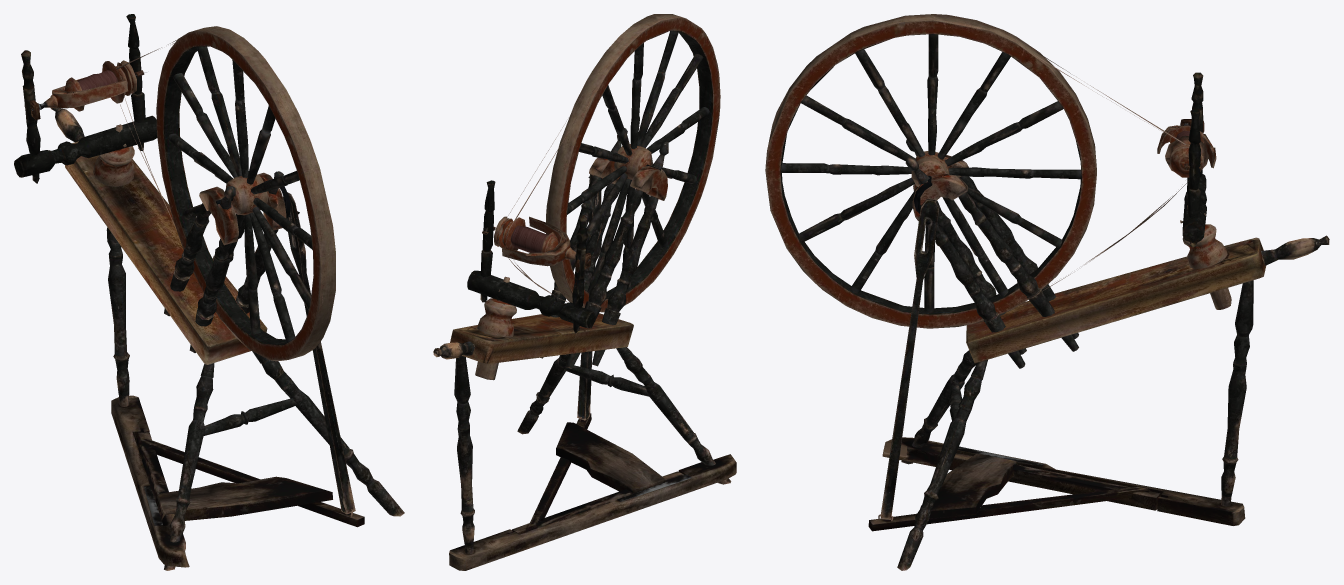
Rendered from spinning_wheel_01.glb.
The picture shows the model from 3 angles, left to right: view 1: azimuth 30°, elevation 25°; view 2: azimuth 150°, elevation 25°; view 3: azimuth 270°, elevation 25°; orthographic projection. The views are drawn at different scales.
Visible parts, largest first — view 1: spinning_wheel_01; view 2: spinning_wheel_01; view 3: spinning_wheel_01.
Boxes of the visible parts, x1,y1,x2,y2 form: spinning_wheel_01: (14, 14, 404, 570); spinning_wheel_01: (433, 14, 736, 570); spinning_wheel_01: (765, 14, 1329, 570).
Bounding box in the file's own units: 0.4894 × 0.9656 × 1.02.
1 material, 1 textured.
